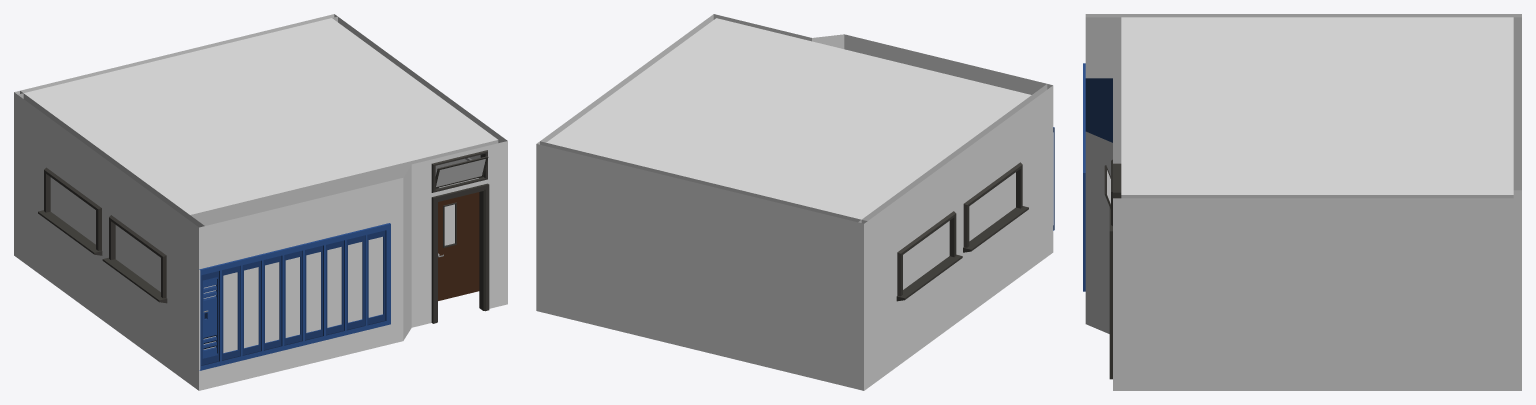
File: classroom.fbx
3 renders of one model, left to right at view 1: azimuth 30°, elevation 25°; view 2: azimuth 150°, elevation 25°; view 3: azimuth 270°, elevation 25°, orthographic. The views are drawn at different scales.
Visible parts, largest first — view 1: Ceiling, Wall (w/ windows), Door Wall, Door Wall (w/ lockers), Lockers, Door, Wall, Locker Door; view 2: Wall, Ceiling, Wall (w/ windows), Door Wall (w/ lockers), Door Wall; view 3: Door Wall (w/ lockers), Ceiling, Wall (w/ windows), Lockers, Door Wall.
Boxes of the visible parts, x1,y1,x2,y2 form: Ceiling: [24, 18, 497, 214]; Wall (w/ windows): [14, 91, 204, 390]; Door Wall: [190, 17, 507, 390]; Door Wall (w/ lockers): [190, 14, 507, 390]; Lockers: [201, 230, 386, 365]; Door: [438, 192, 479, 300]; Wall: [14, 14, 337, 98]; Locker Door: [202, 277, 217, 358]; Wall: [536, 141, 867, 390]; Ceiling: [546, 18, 1031, 219]; Wall (w/ windows): [858, 84, 1053, 390]; Door Wall (w/ lockers): [536, 14, 1054, 230]; Door Wall: [540, 14, 983, 142]; Door Wall (w/ lockers): [1083, 63, 1521, 390]; Ceiling: [1121, 17, 1513, 194]; Wall (w/ windows): [1085, 14, 1521, 198]; Lockers: [1085, 78, 1112, 142]; Door Wall: [1104, 159, 1121, 231].
Bounding box in the file's own units: 820 × 390 × 805.
